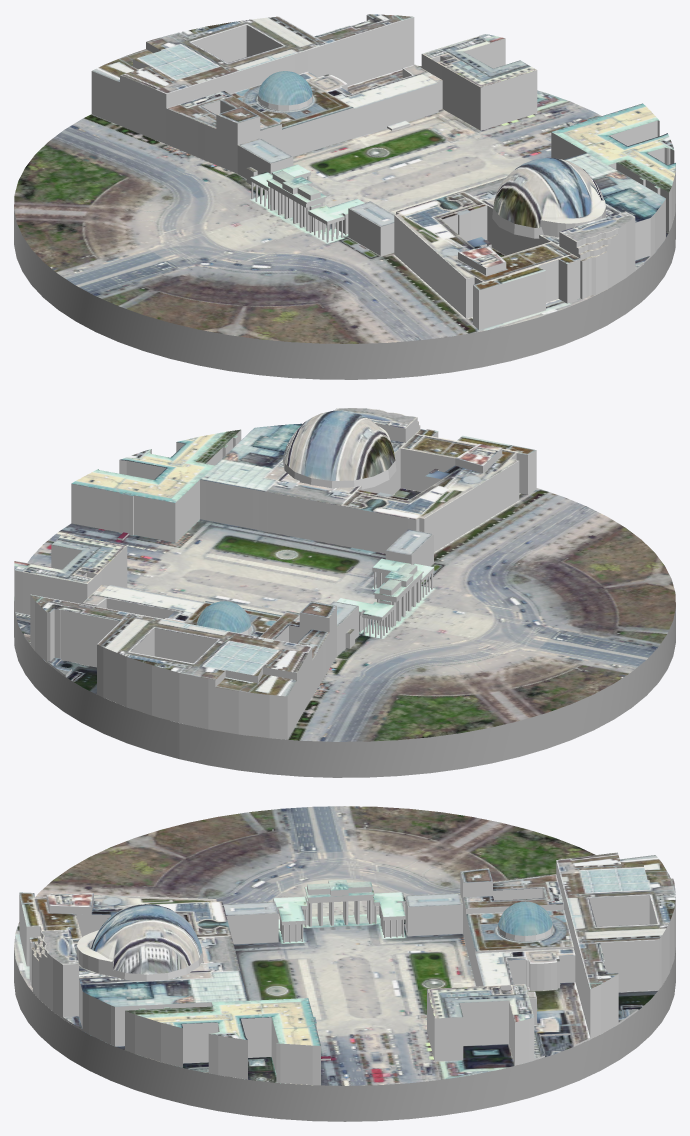
Rendered from Brandenburger Tor.glb.
3 renders of one model, top to bottom at view 1: azimuth 30°, elevation 25°; view 2: azimuth 150°, elevation 25°; view 3: azimuth 270°, elevation 25°, orthographic.
Parts seen in each view (by area): view 1: Buildings, Ground, GroundSides; view 2: Buildings, Ground, GroundSides; view 3: Buildings, Ground, GroundSides.
Boxes of the visible parts, box(x1,y1,x2,y2) form: Buildings: box(91, 14, 675, 329); Ground: box(14, 90, 668, 343); GroundSides: box(14, 204, 675, 379); Buildings: box(14, 408, 536, 739); Ground: box(14, 488, 675, 741); GroundSides: box(14, 602, 675, 777); Buildings: box(19, 852, 675, 1085); Ground: box(14, 806, 658, 1085); GroundSides: box(14, 947, 675, 1121).
Bounding box in the file's own units: 334 × 68.99 × 334.
5 materials, 2 textured.
